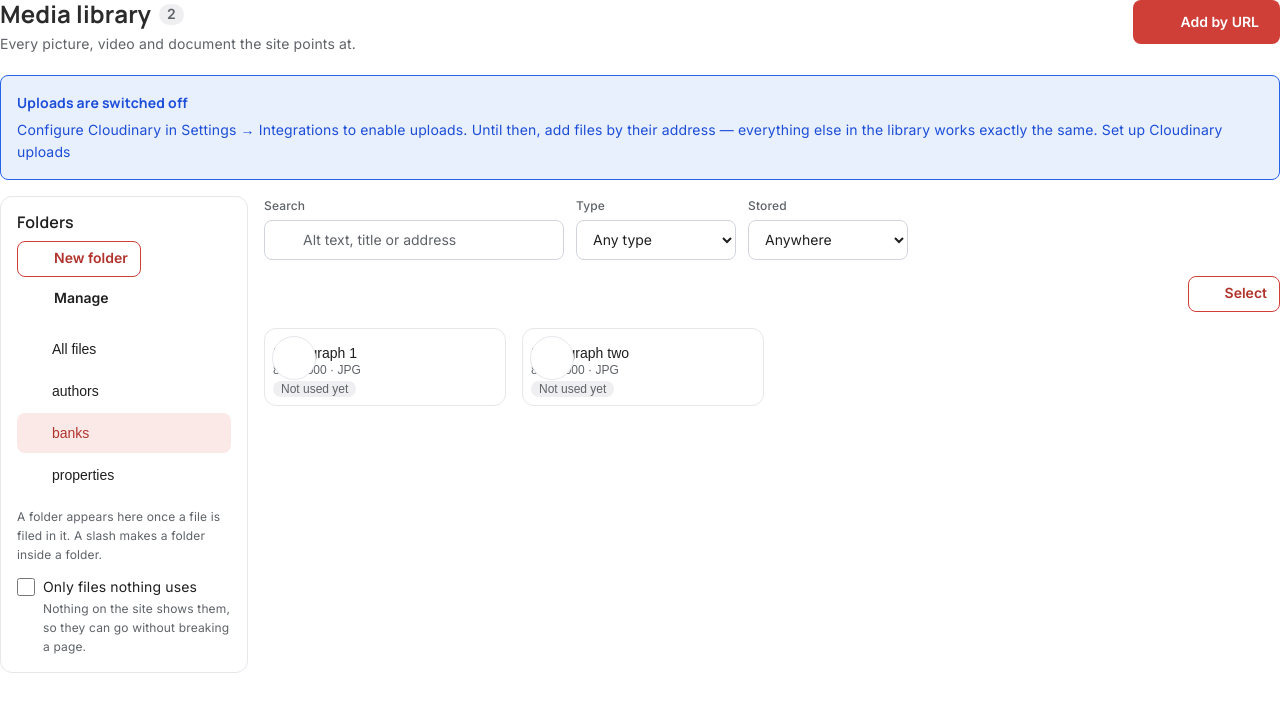
it: files a file added by address in the folder on screen
This screenshot has width=1280, height=720.
Check: the text "Photograph 1" is shown, box [273, 344, 361, 360]
Click the button "Add by URL" at x=1207, y=22, box [1133, 0, 1279, 44]
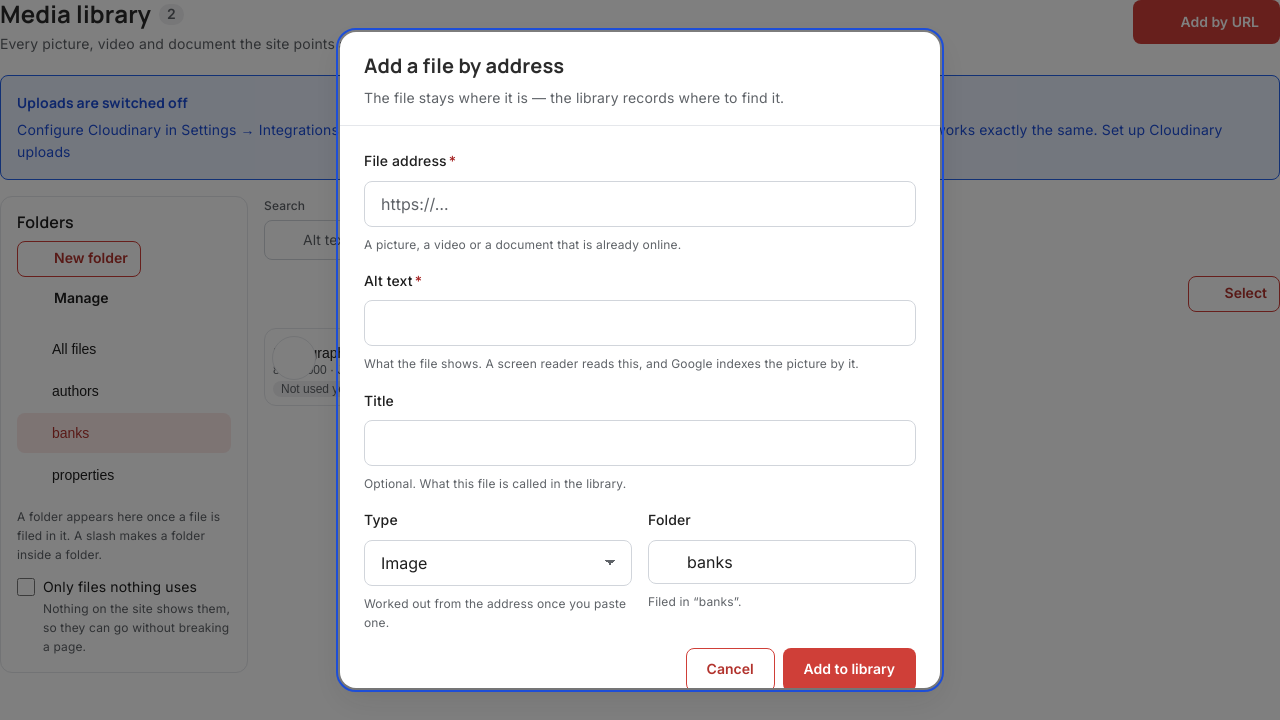
Check: the dropdown labelled "Folder" holds "banks", box [687, 540, 903, 582]
